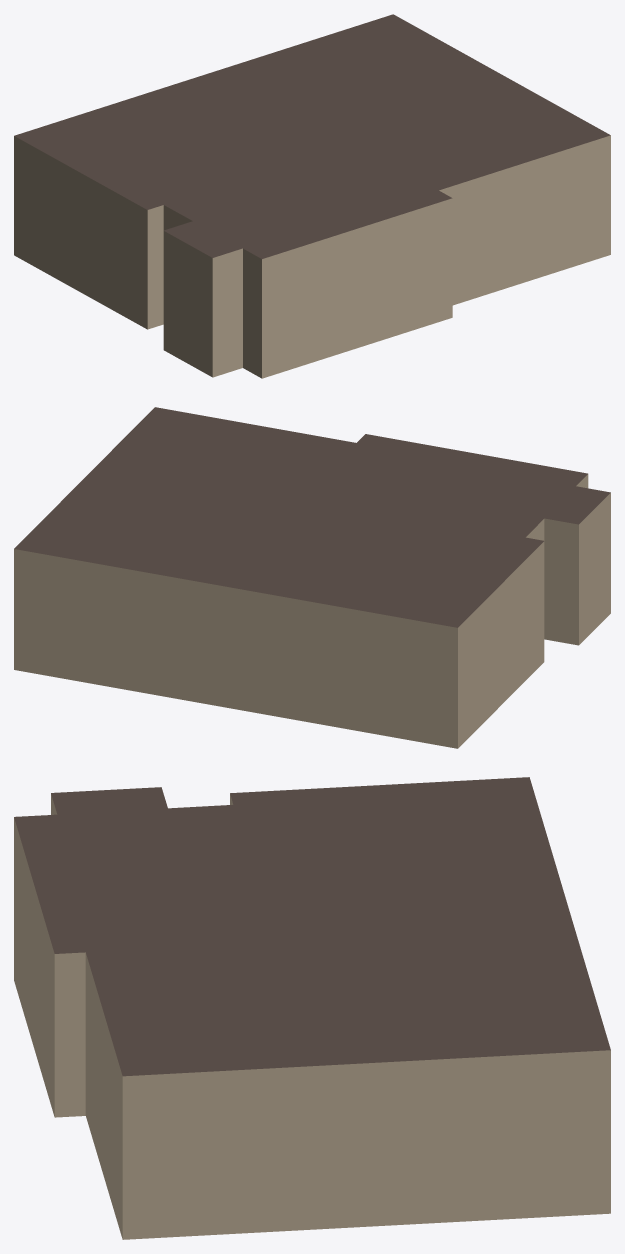
3 views of the same model, one above another, from view 1: azimuth 30°, elevation 25°; view 2: azimuth 150°, elevation 25°; view 3: azimuth 270°, elevation 25° (orthographic). The views are drawn at different scales.
Visible parts, largest first — view 1: HP-w1512359745; view 2: HP-w1512359745; view 3: HP-w1512359745.
Part boxes in pixels (bbox=[...]): HP-w1512359745: bbox=[14, 14, 610, 378]; HP-w1512359745: bbox=[14, 407, 610, 748]; HP-w1512359745: bbox=[14, 777, 610, 1239].
Bounding box in the file's own units: 35.32 × 9 × 29.78.
